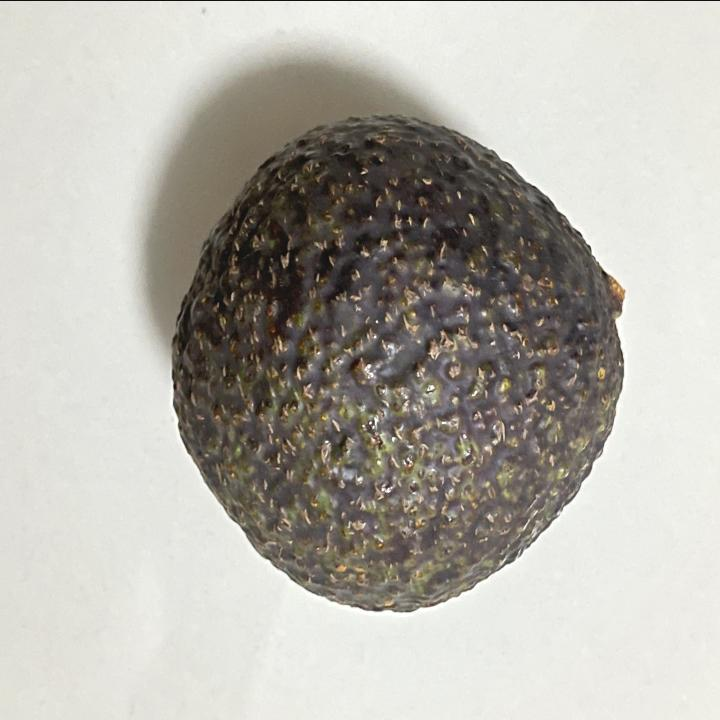Level1: (159, 102, 640, 628)
